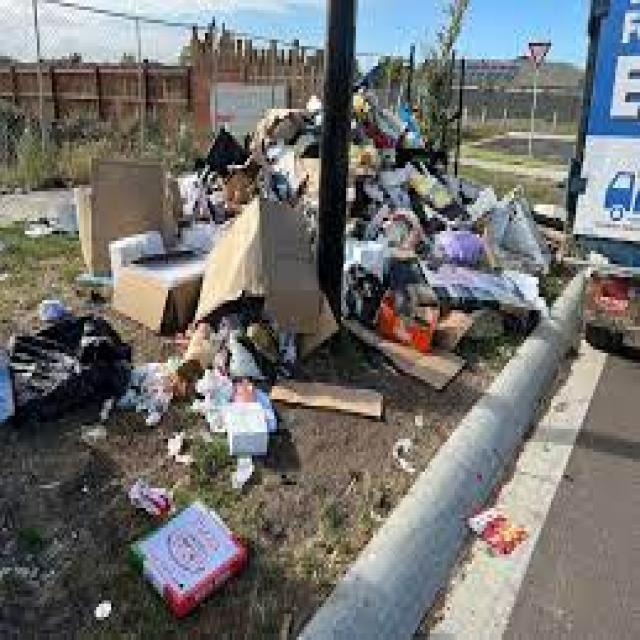dumping: (15, 92, 551, 597)
